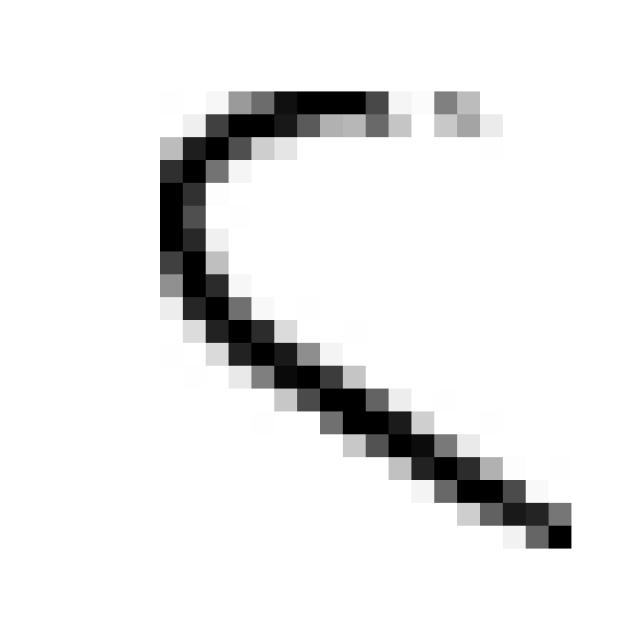2 -two-: (140, 64, 596, 570)
